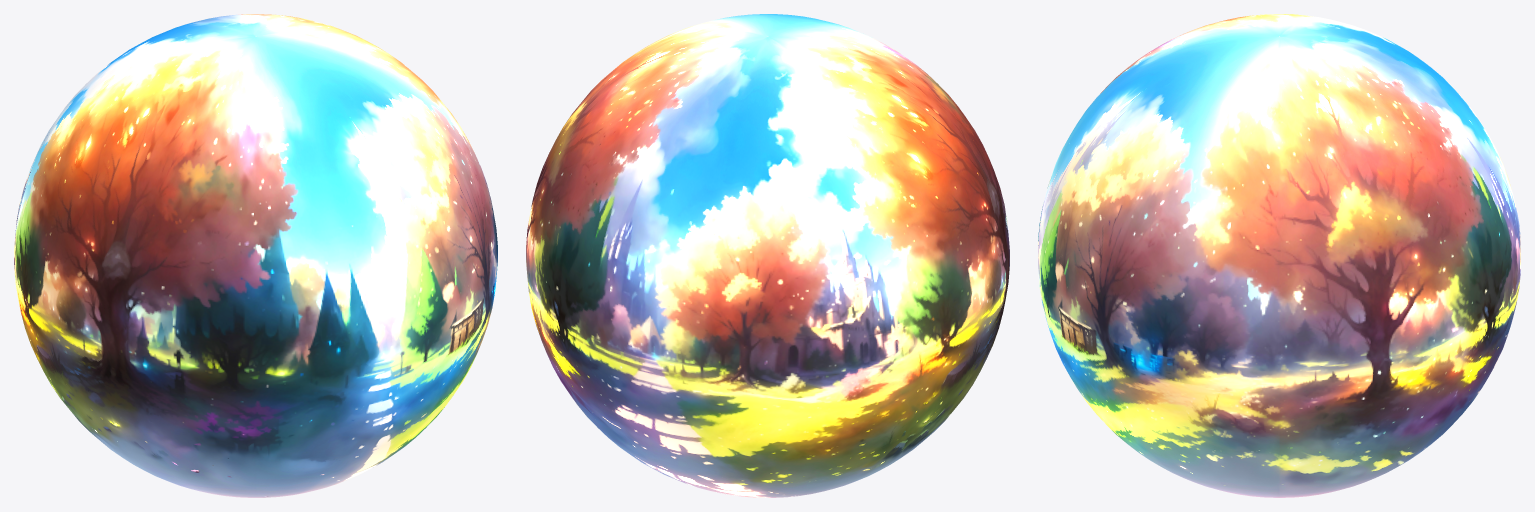
3 renders of one model, left to right at view 1: azimuth 30°, elevation 25°; view 2: azimuth 150°, elevation 25°; view 3: azimuth 270°, elevation 25°, orthographic.
Parts seen in each view (by area): view 1: Fairytale_Garden; view 2: Fairytale_Garden; view 3: Fairytale_Garden.
Boxes of the visible parts, x1,y1,x2,y2 form: Fairytale_Garden: [14, 14, 497, 497]; Fairytale_Garden: [526, 14, 1009, 497]; Fairytale_Garden: [1038, 14, 1520, 497].
Size of the model in its own units: 0.2478 by 0.248 by 0.2473.
1 material, 1 textured.
